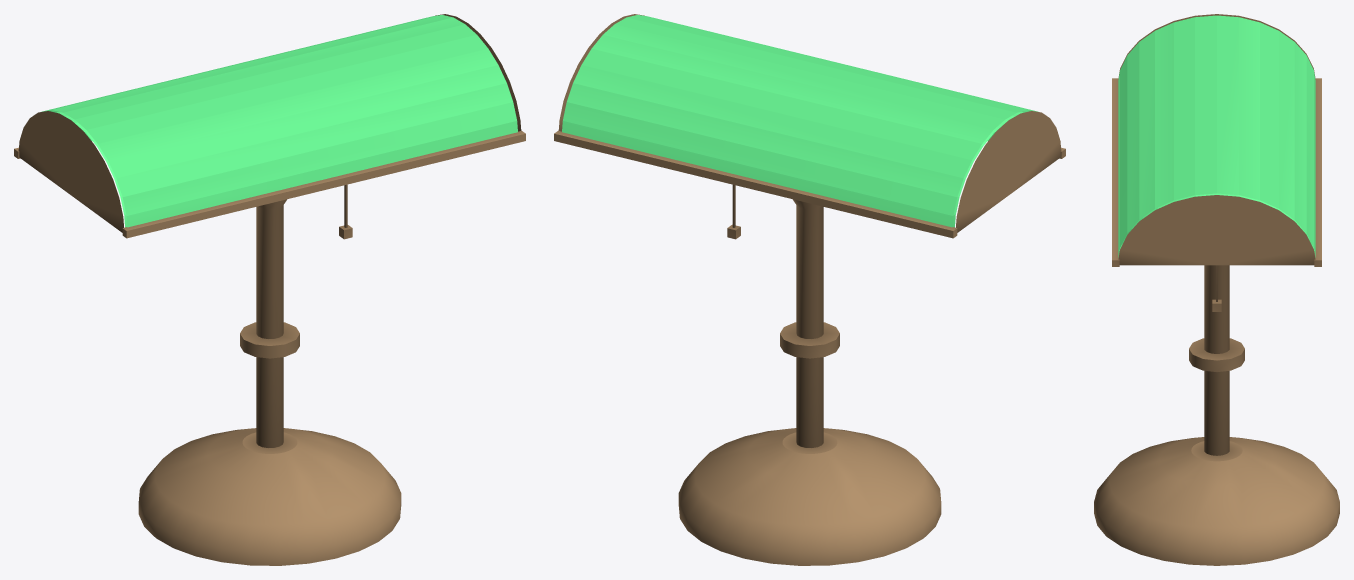
File: library_lamp.gltf
The picture shows the model from 3 angles, left to right: view 1: azimuth 30°, elevation 25°; view 2: azimuth 150°, elevation 25°; view 3: azimuth 270°, elevation 25°; orthographic projection. The views are drawn at different scales.
Parts seen in each view (by area): view 1: LibraryLamp_Shade, LibraryLamp_Bronze, LibraryLamp_Rims; view 2: LibraryLamp_Shade, LibraryLamp_Bronze, LibraryLamp_Rims; view 3: LibraryLamp_Bronze, LibraryLamp_Shade, LibraryLamp_Rims.
Part boxes in pixels (x1=…): LibraryLamp_Shade: x1=41, y1=15, x2=517, y2=227; LibraryLamp_Bronze: x1=18, y1=14, x2=521, y2=565; LibraryLamp_Rims: x1=14, y1=130, x2=525, y2=239; LibraryLamp_Shade: x1=562, y1=15, x2=1038, y2=227; LibraryLamp_Bronze: x1=558, y1=14, x2=1061, y2=565; LibraryLamp_Rims: x1=554, y1=130, x2=1065, y2=239; LibraryLamp_Bronze: x1=1094, y1=14, x2=1339, y2=565; LibraryLamp_Shade: x1=1118, y1=15, x2=1315, y2=257; LibraryLamp_Rims: x1=1112, y1=78, x2=1321, y2=311.
Bounding box in the file's own units: 0.368 × 0.3863 × 0.21.
